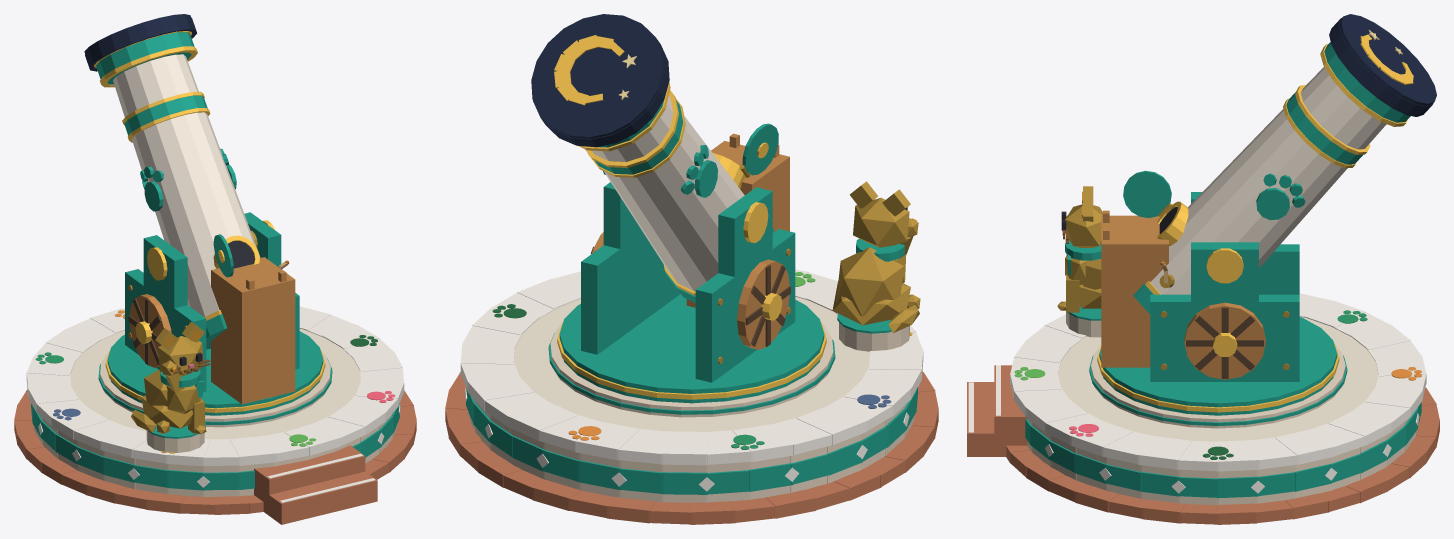
Rendered from CatCafe_Square_Cannon.glb.
The picture shows the model from 3 angles, left to right: view 1: azimuth 30°, elevation 25°; view 2: azimuth 150°, elevation 25°; view 3: azimuth 270°, elevation 25°; orthographic projection. The views are drawn at different scales.
Parts seen in each view (by area): view 1: CatCafe_Square_Cannon, CatCafe_Square_Cannon_Turret, CatCafe_Square_Cannon_Climb, CatCafe_Square_Cannon_Statue, CatCafe_Square_Cannon_MoonCover, CatCafe_Square_Cannon_Decor; view 2: CatCafe_Square_Cannon, CatCafe_Square_Cannon_Turret, CatCafe_Square_Cannon_MoonCover, CatCafe_Square_Cannon_Statue, CatCafe_Square_Cannon_Climb, CatCafe_Square_Cannon_Decor; view 3: CatCafe_Square_Cannon, CatCafe_Square_Cannon_Turret, CatCafe_Square_Cannon_Climb, CatCafe_Square_Cannon_MoonCover, CatCafe_Square_Cannon_Statue, CatCafe_Square_Cannon_Decor.
Part boxes in pixels (x1=…): CatCafe_Square_Cannon: x1=14, y1=306, x2=416, y2=524; CatCafe_Square_Cannon_Turret: x1=94, y1=31, x2=325, y2=415; CatCafe_Square_Cannon_Climb: x1=211, y1=257, x2=295, y2=404; CatCafe_Square_Cannon_Statue: x1=131, y1=321, x2=210, y2=452; CatCafe_Square_Cannon_MoonCover: x1=84, y1=14, x2=196, y2=71; CatCafe_Square_Cannon_Decor: x1=160, y1=369, x2=205, y2=397; CatCafe_Square_Cannon: x1=445, y1=269, x2=938, y2=524; CatCafe_Square_Cannon_Turret: x1=557, y1=82, x2=826, y2=403; CatCafe_Square_Cannon_MoonCover: x1=531, y1=14, x2=669, y2=147; CatCafe_Square_Cannon_Statue: x1=832, y1=181, x2=920, y2=351; CatCafe_Square_Cannon_Climb: x1=686, y1=141, x2=789, y2=307; CatCafe_Square_Cannon_Decor: x1=856, y1=238, x2=904, y2=261; CatCafe_Square_Cannon: x1=967, y1=293, x2=1439, y2=524; CatCafe_Square_Cannon_Turret: x1=1097, y1=42, x2=1410, y2=415; CatCafe_Square_Cannon_Climb: x1=1101, y1=215, x2=1168, y2=367; CatCafe_Square_Cannon_MoonCover: x1=1329, y1=14, x2=1436, y2=116; CatCafe_Square_Cannon_Statue: x1=1057, y1=186, x2=1102, y2=337; CatCafe_Square_Cannon_Decor: x1=1065, y1=240, x2=1101, y2=274.
Bounding box in the file's own units: 13.05 × 13.28 × 13.93.
1 material, 1 textured.
